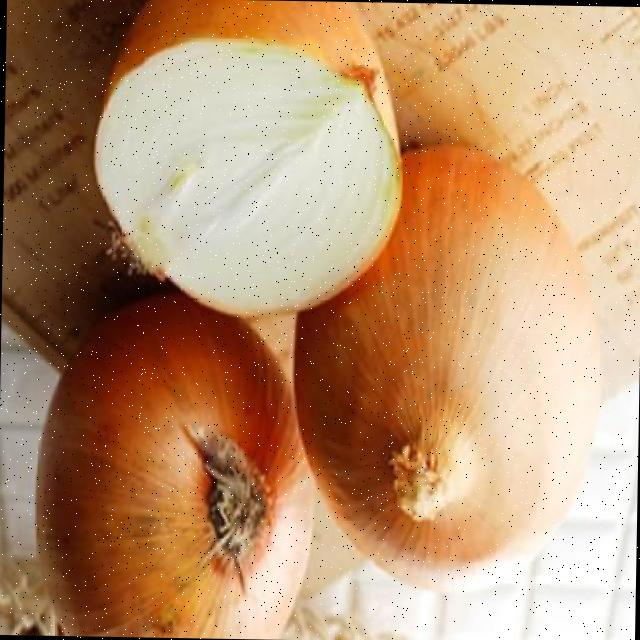Onion: (293, 144, 599, 590), (34, 291, 311, 639)
